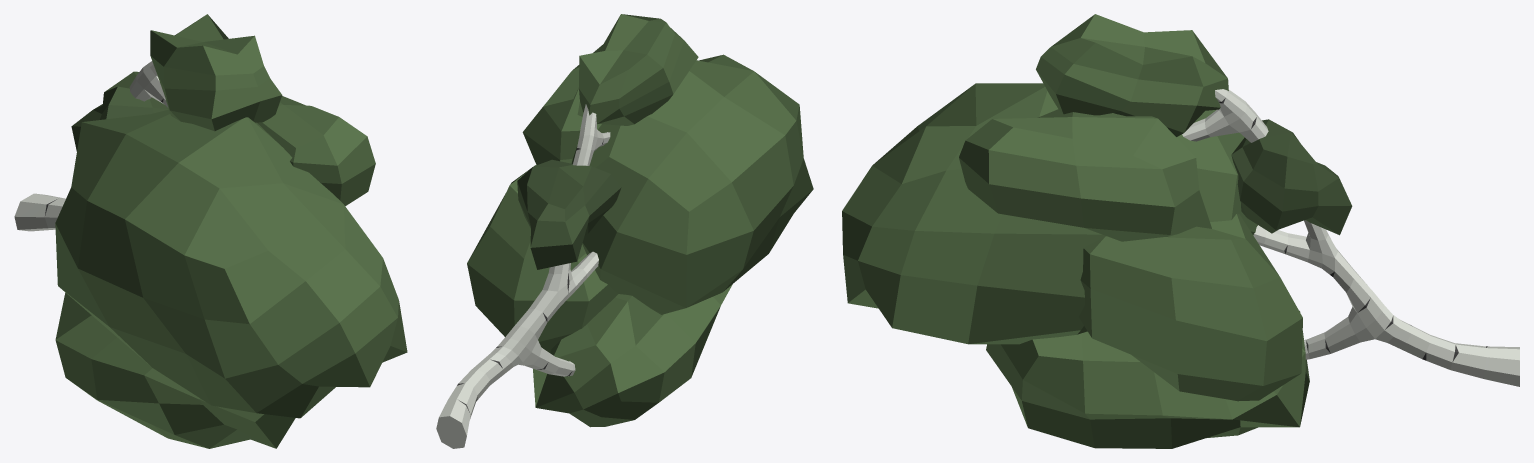
The model's file is BirchTree_1_Fixed.fbx.
The picture shows the model from 3 angles, left to right: view 1: azimuth 30°, elevation 25°; view 2: azimuth 150°, elevation 25°; view 3: azimuth 270°, elevation 25°; orthographic projection. The views are drawn at different scales.
Parts seen in each view (by area): view 1: BirchTree_1_LOD0; view 2: BirchTree_1_LOD0; view 3: BirchTree_1_LOD0.
Part boxes in pixels (box(x1,y1,x2,y2)): BirchTree_1_LOD0: box(14, 14, 407, 448); BirchTree_1_LOD0: box(436, 14, 813, 448); BirchTree_1_LOD0: box(842, 14, 1519, 448).
Size of what is drawn, in the model's own units: 170 by 248 by 357.
